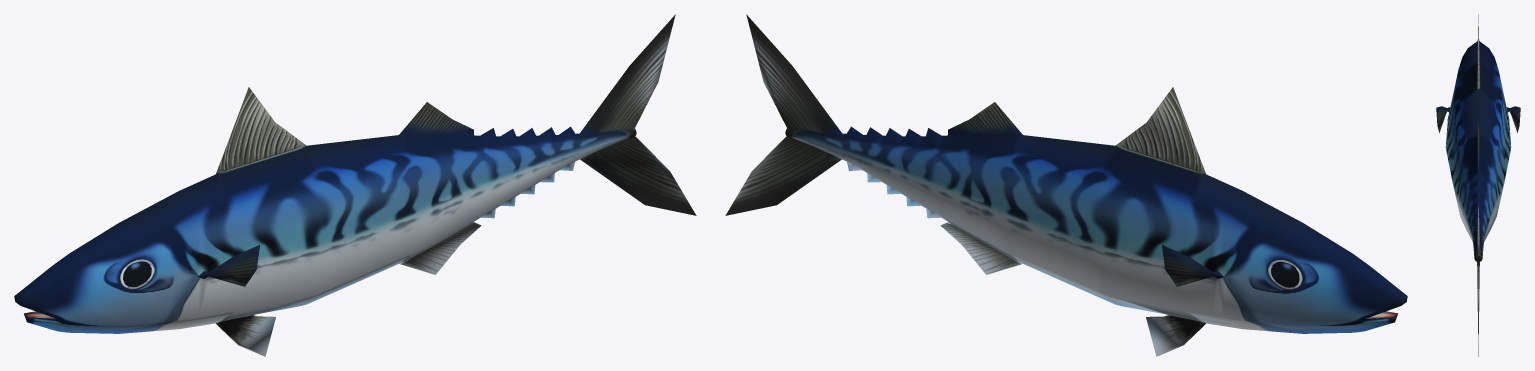
The model's file is godengeo.FBX.
The picture shows the model from 3 angles, left to right: view 1: azimuth 30°, elevation 25°; view 2: azimuth 150°, elevation 25°; view 3: azimuth 270°, elevation 25°; orthographic projection. The views are drawn at different scales.
Visible parts, largest first — view 1: Cylinder001; view 2: Cylinder001; view 3: Cylinder001.
Part boxes in pixels (x1,y1,x2,y2): Cylinder001: (14,14,696,356); Cylinder001: (725,14,1407,356); Cylinder001: (1436,14,1520,356).
Bounding box in the file's own units: 192 × 73.85 × 27.48.
Materials: 1 (1 with a texture image).
